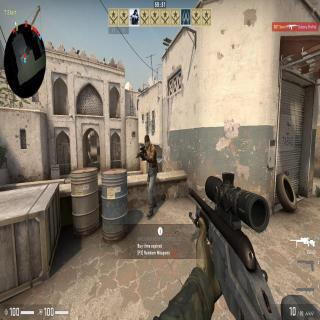T-Body: (142, 133, 159, 217)
T-Head: (144, 135, 150, 146)
